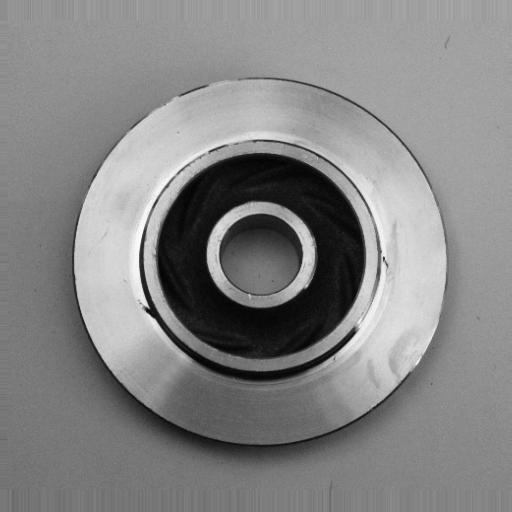crack: (130, 290, 168, 328)
scratch: (355, 280, 389, 343)
unpolished_casting: (68, 74, 451, 453)
